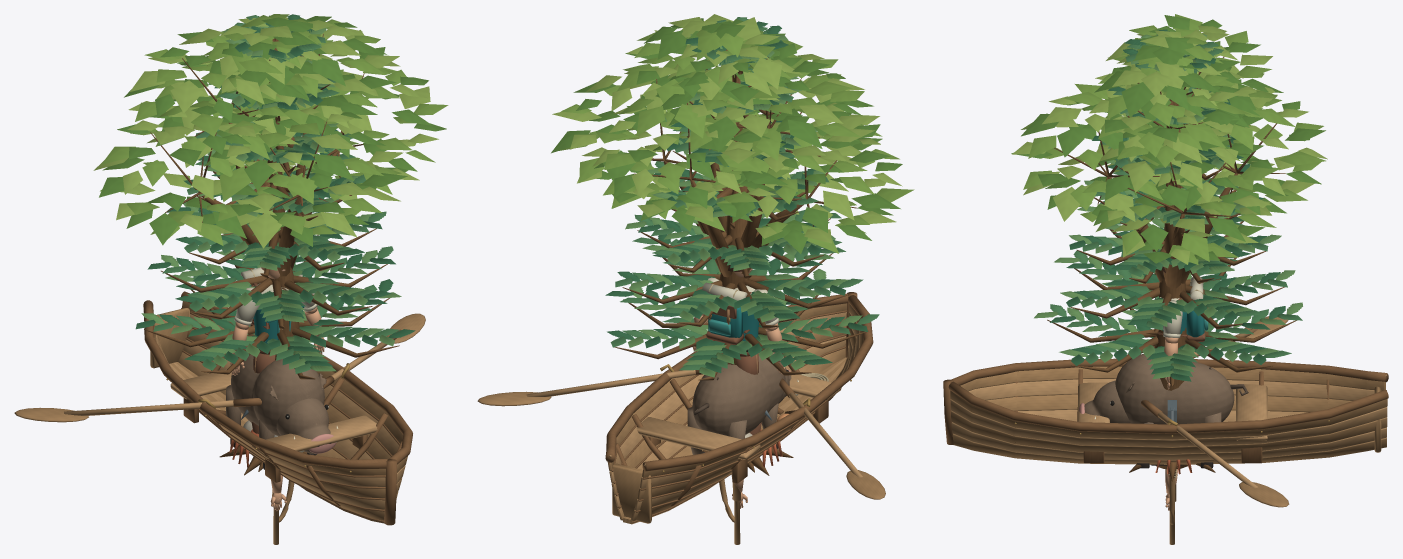
The model's file is expedition-20.glb.
The picture shows the model from 3 angles, left to right: view 1: azimuth 30°, elevation 25°; view 2: azimuth 150°, elevation 25°; view 3: azimuth 270°, elevation 25°; orthographic projection. The views are drawn at different scales.
Parts seen in each view (by area): view 1: Broadleaf leaf blades 0, Broadleaf leaf blades 2, Broadleaf leaf blades 1, Pine needle sprays 0, Rowboat__Timber_end_grain, Pine needle sprays 1, Pine needle sprays 2, Rowboat__Warm_alternate_planks, Rowboat__Honey_boat_timber, Pine__R20 PBR R20 layered bark, Boar__Boar_umber, Broadleaf__R20 PBR R20 layered bark (+4 smaller); view 2: Broadleaf leaf blades 0, Broadleaf leaf blades 2, Broadleaf leaf blades 1, Rowboat__Timber_end_grain, Pine needle sprays 1, Pine needle sprays 2, Pine needle sprays 0, Rowboat__Honey_boat_timber, Rowboat__Warm_alternate_planks, Pine__R20 PBR R20 layered bark, Boar__Boar_umber, Broadleaf__R20 PBR R20 layered bark (+4 smaller); view 3: Rowboat__Honey_boat_timber, Broadleaf leaf blades 0, Broadleaf leaf blades 2, Broadleaf leaf blades 1, Rowboat__Warm_alternate_planks, Rowboat__Timber_end_grain, Pine needle sprays 2, Pine needle sprays 0, Pine needle sprays 1, Boar__Boar_umber, Pine__R20 PBR R20 layered bark, Broadleaf__R20 PBR R20 layered bark (+3 smaller).
Part boxes in pixels (x1,y1,x2,y2): Broadleaf leaf blades 0: [99, 16, 446, 246]; Broadleaf leaf blades 2: [93, 17, 438, 248]; Broadleaf leaf blades 1: [100, 14, 448, 245]; Pine needle sprays 0: [135, 14, 415, 366]; Rowboat__Timber_end_grain: [143, 291, 412, 525]; Pine needle sprays 1: [153, 15, 399, 373]; Pine needle sprays 2: [141, 21, 401, 371]; Rowboat__Warm_alternate_planks: [154, 314, 405, 509]; Rowboat__Honey_boat_timber: [150, 301, 407, 523]; Pine__R20 PBR R20 layered bark: [144, 38, 399, 471]; Boar__Boar_umber: [231, 354, 324, 436]; Broadleaf__R20 PBR R20 layered bark: [150, 34, 364, 475]; Broadleaf leaf blades 0: [551, 18, 902, 253]; Broadleaf leaf blades 2: [552, 14, 902, 243]; Broadleaf leaf blades 1: [559, 20, 914, 253]; Rowboat__Timber_end_grain: [605, 292, 873, 523]; Pine needle sprays 1: [610, 17, 879, 370]; Pine needle sprays 2: [625, 34, 862, 377]; Pine needle sprays 0: [605, 21, 867, 372]; Rowboat__Honey_boat_timber: [607, 303, 863, 524]; Rowboat__Warm_alternate_planks: [609, 312, 859, 523]; Pine__R20 PBR R20 layered bark: [614, 49, 868, 472]; Boar__Boar_umber: [692, 345, 785, 435]; Broadleaf__R20 PBR R20 layered bark: [634, 69, 857, 475]; Rowboat__Honey_boat_timber: [950, 366, 1387, 464]; Broadleaf leaf blades 0: [1011, 15, 1325, 263]; Broadleaf leaf blades 2: [1012, 25, 1327, 264]; Broadleaf leaf blades 1: [1021, 14, 1325, 264]; Rowboat__Warm_alternate_planks: [950, 374, 1387, 460]; Rowboat__Timber_end_grain: [943, 358, 1388, 463]; Pine needle sprays 2: [1034, 33, 1302, 379]; Pine needle sprays 0: [1050, 29, 1285, 381]; Pine needle sprays 1: [1050, 34, 1302, 376]; Boar__Boar_umber: [1115, 354, 1234, 424]; Pine__R20 PBR R20 layered bark: [1047, 72, 1296, 386]; Broadleaf__R20 PBR R20 layered bark: [1054, 56, 1285, 481].
Bounding box in the file's own units: 3.73 × 4.55 × 3.64.
Materials: 41 (30 with a texture image).
